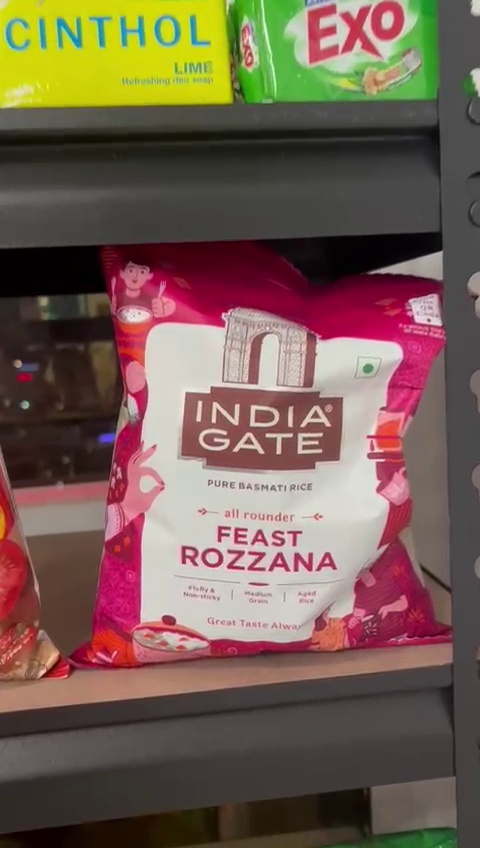India Gate Feast Rozzana: (100, 248, 438, 644)
